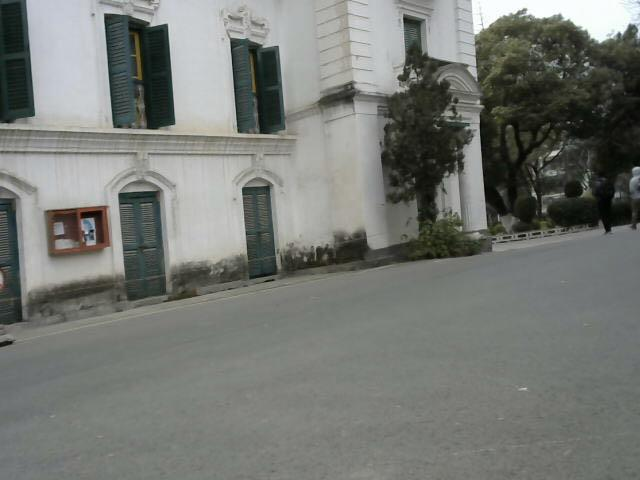Building: (3, 3, 374, 299)
Road: (0, 238, 640, 480)
Tree: (469, 8, 636, 256), (381, 44, 487, 259)
